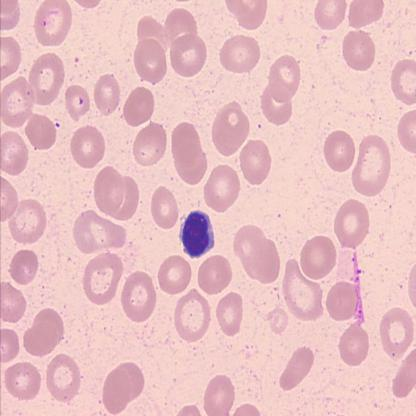NRC: (177, 208, 216, 259)
